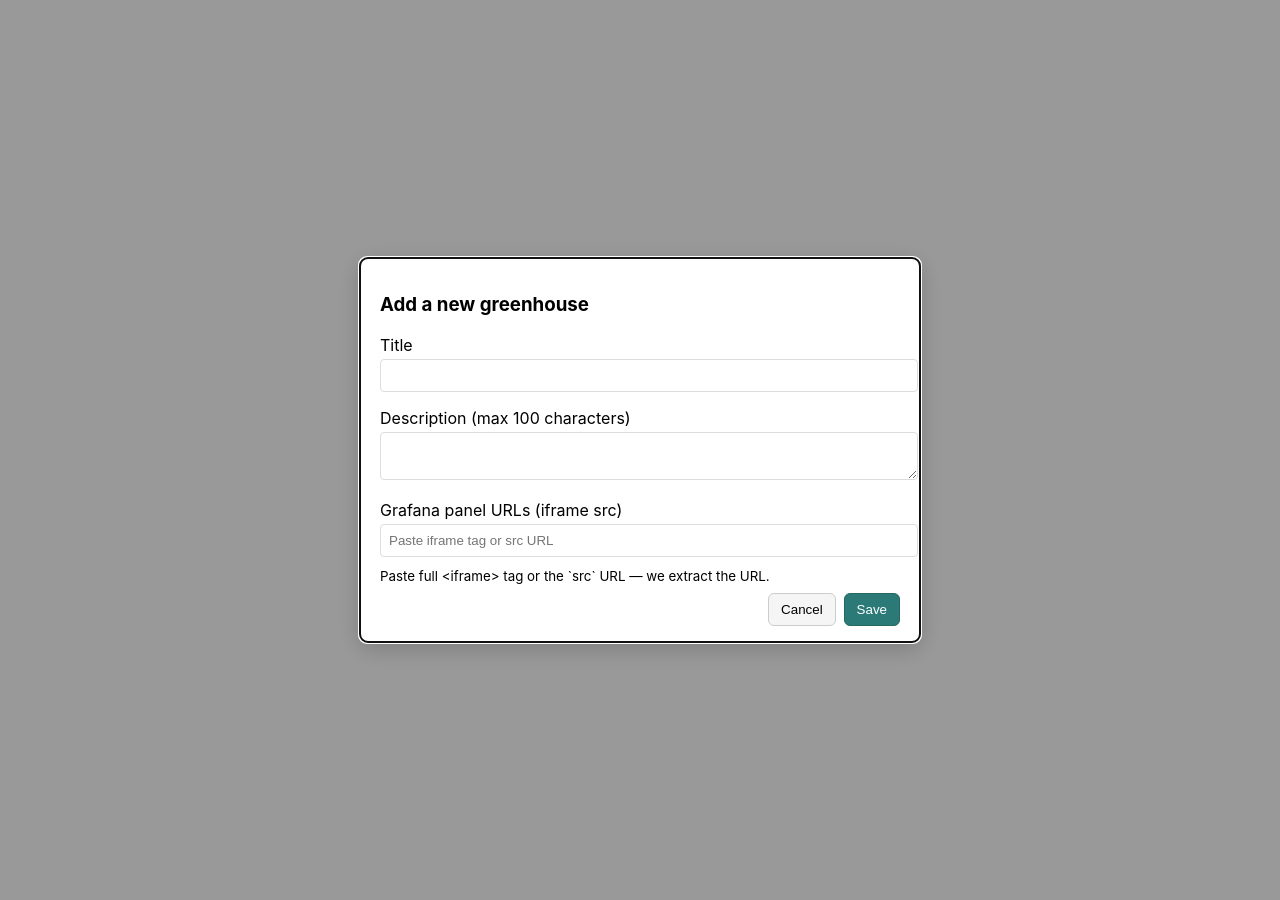
Test case: AddGreenhouseModal › shows validation error when title is empty
Click the button "Save" at [872, 609], box x1=844 y1=593 x2=900 y2=626
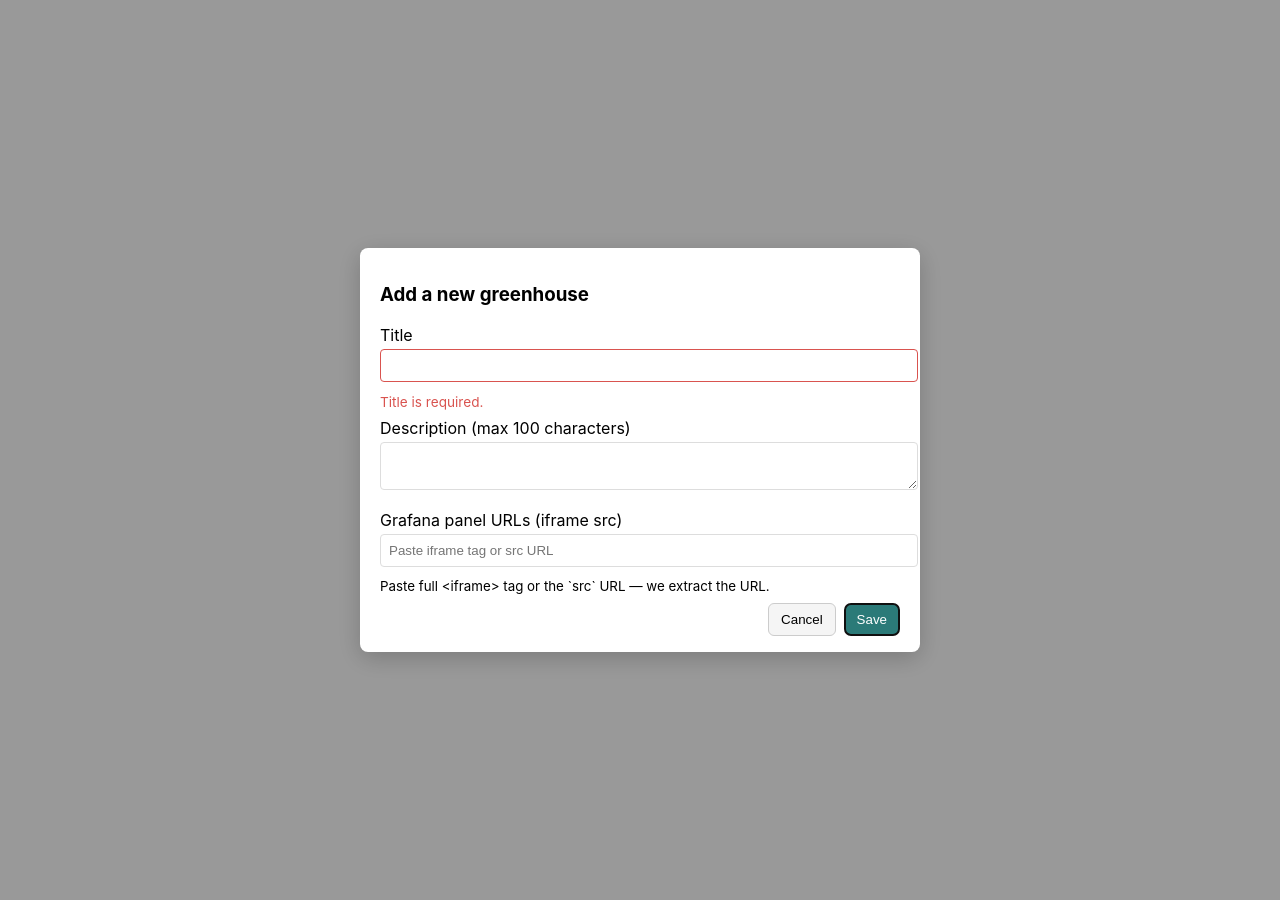
Check: the text "Title is required." is shown, box x1=380 y1=394 x2=483 y2=410
